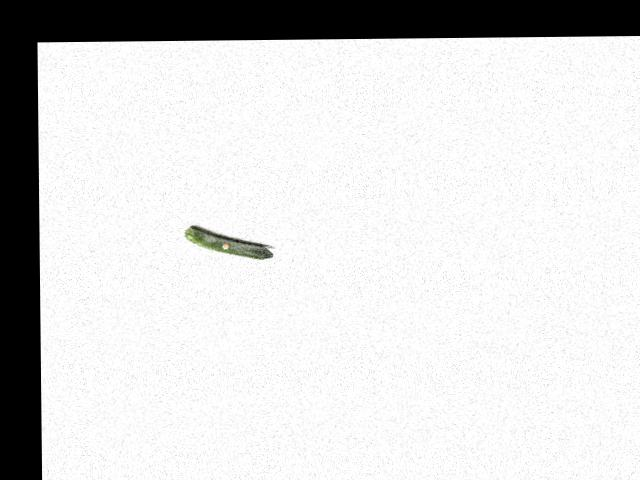cucumber: (183, 226, 273, 260)
